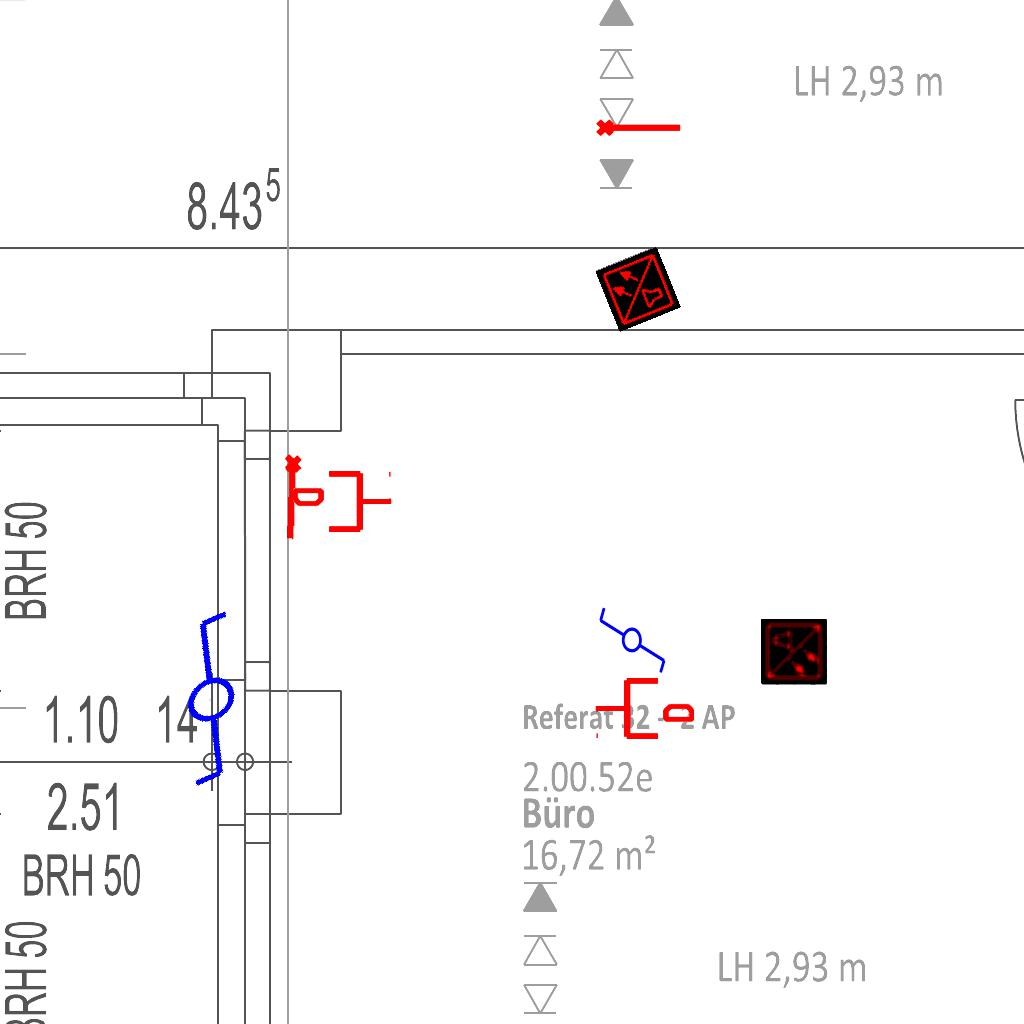ASR_Ansaugoeffnung: (279, 453, 307, 542), (595, 115, 683, 138)
Datenanschluss_einfach: (594, 674, 694, 743), (293, 467, 393, 536)
OKW_Multisensormelder_(Kombination_optischer_Rauch-Kahlenmonoxid_Waerme-Melder): (595, 246, 681, 332), (761, 619, 827, 685)
Wechselschalter: (97, 597, 310, 809), (597, 597, 669, 675)
